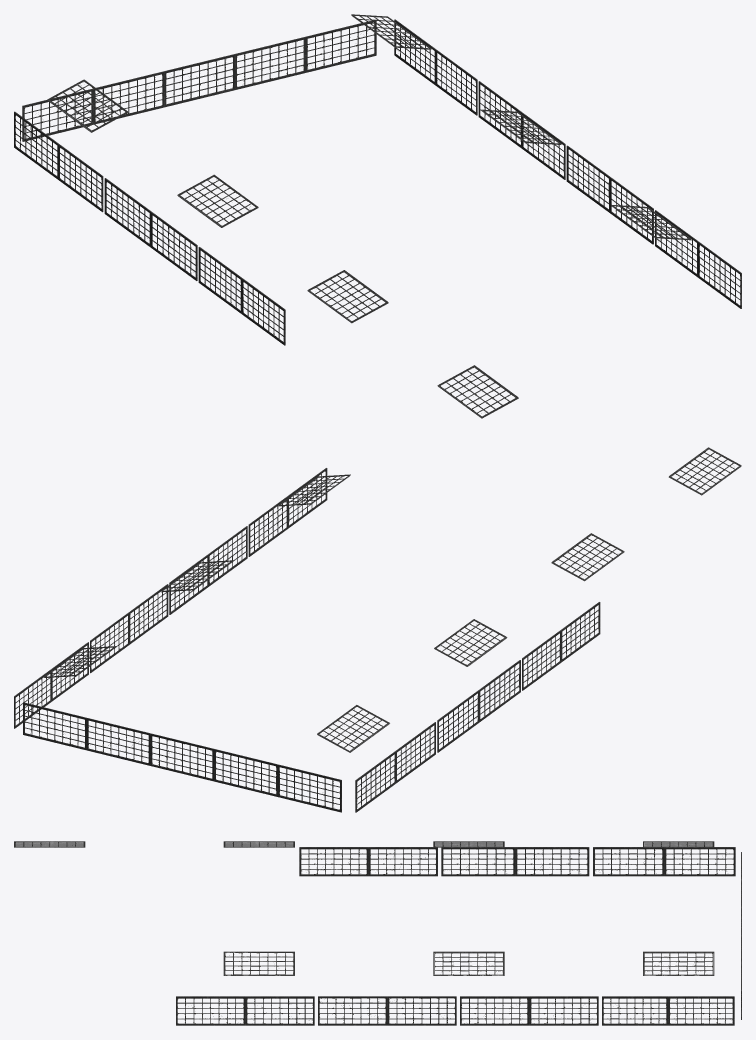
Rendered from windows.fbx.
The picture shows the model from 3 angles, top to bottom: view 1: azimuth 30°, elevation 25°; view 2: azimuth 150°, elevation 25°; view 3: azimuth 270°, elevation 25°; orthographic projection. The views are drawn at different scales.
Visible parts, largest first — view 1: Windows; view 2: Windows; view 3: Windows.
Part boxes in pixels (<box>): Windows: <box>14,14,741,418</box>; Windows: <box>14,447,741,812</box>; Windows: <box>14,841,741,1025</box>.
Bounding box in the file's own units: 6023 × 967 × 12384.
1 material, 1 textured.
